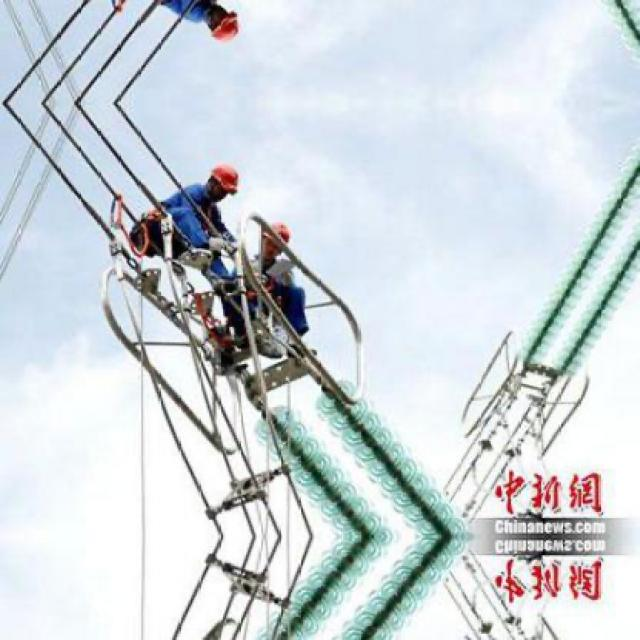helmet: (203, 159, 242, 202), (203, 5, 242, 48), (258, 214, 290, 264)
